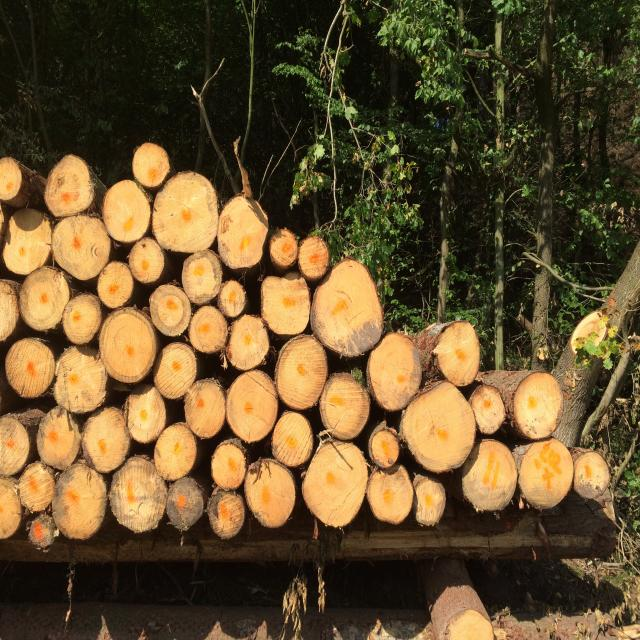wood-log: (311, 262, 384, 360), (400, 384, 474, 474), (304, 441, 372, 529), (151, 174, 216, 254), (112, 455, 170, 533), (101, 311, 162, 385), (53, 462, 109, 538), (366, 334, 421, 411), (464, 440, 520, 513), (276, 335, 329, 410), (53, 212, 112, 278), (224, 374, 279, 444), (216, 197, 268, 270), (53, 344, 108, 413), (521, 438, 576, 507), (245, 460, 299, 530), (510, 374, 562, 441), (319, 374, 371, 441), (80, 406, 131, 472), (0, 210, 50, 277), (19, 266, 70, 331), (102, 180, 151, 243), (3, 338, 54, 398), (261, 273, 311, 334), (46, 159, 96, 219), (433, 322, 479, 385), (38, 407, 82, 470), (367, 466, 414, 524), (226, 316, 272, 372), (154, 422, 198, 480), (184, 380, 227, 439), (154, 341, 198, 398), (270, 414, 314, 468), (150, 284, 193, 338), (127, 387, 167, 444), (180, 252, 222, 306), (166, 477, 207, 530), (62, 294, 103, 346), (439, 603, 495, 640), (207, 488, 246, 538), (575, 450, 612, 502), (190, 306, 229, 354), (16, 464, 54, 513), (0, 414, 30, 475), (212, 439, 248, 489), (96, 262, 134, 308), (129, 236, 166, 283), (132, 144, 170, 188), (472, 387, 506, 436), (298, 235, 331, 280), (368, 427, 402, 469), (416, 476, 445, 525), (0, 476, 21, 538), (216, 281, 247, 320), (270, 229, 300, 269), (0, 281, 19, 342), (28, 512, 58, 548), (0, 157, 21, 202), (0, 370, 17, 416)
